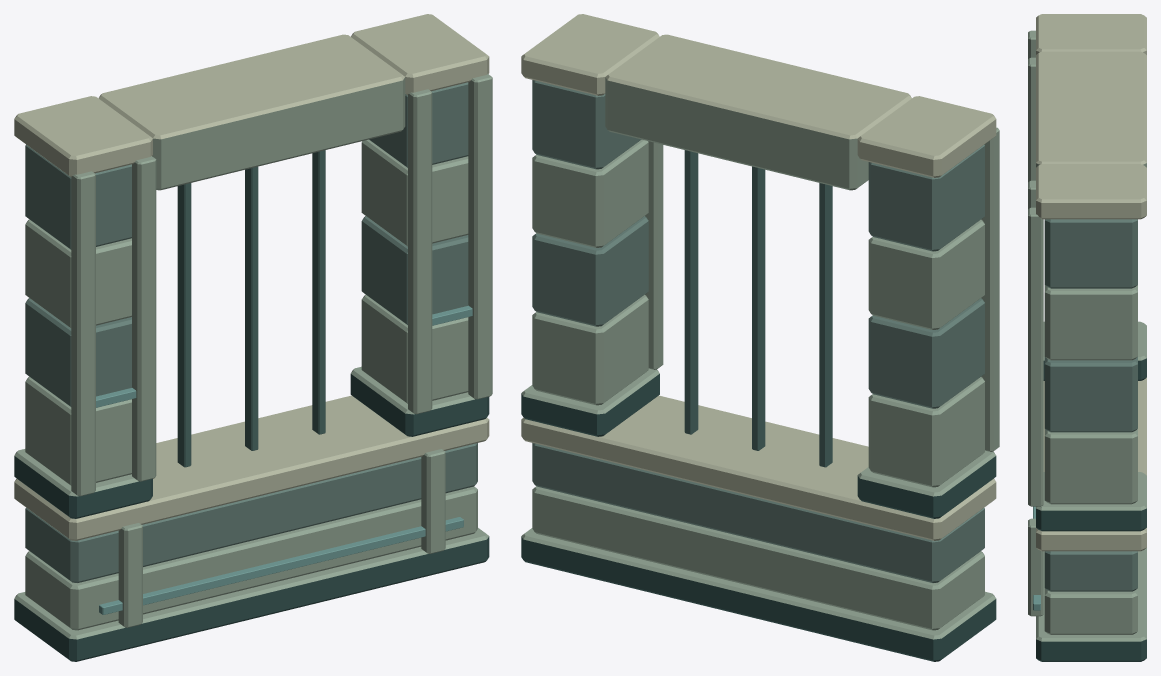
File: wall-window.glb
3 views of the same model, side by side, from view 1: azimuth 30°, elevation 25°; view 2: azimuth 150°, elevation 25°; view 3: azimuth 270°, elevation 25° (orthographic). The views are drawn at different scales.
Parts seen in each view (by area): view 1: wall-window__body; view 2: wall-window__body; view 3: wall-window__body.
Boxes of the visible parts, x1=… form: wall-window__body: x1=14, y1=14, x2=492, y2=661; wall-window__body: x1=521, y1=14, x2=999, y2=661; wall-window__body: x1=1028, y1=14, x2=1146, y2=661.
Bounding box in the file's own units: 2 × 2.3 × 0.535.
